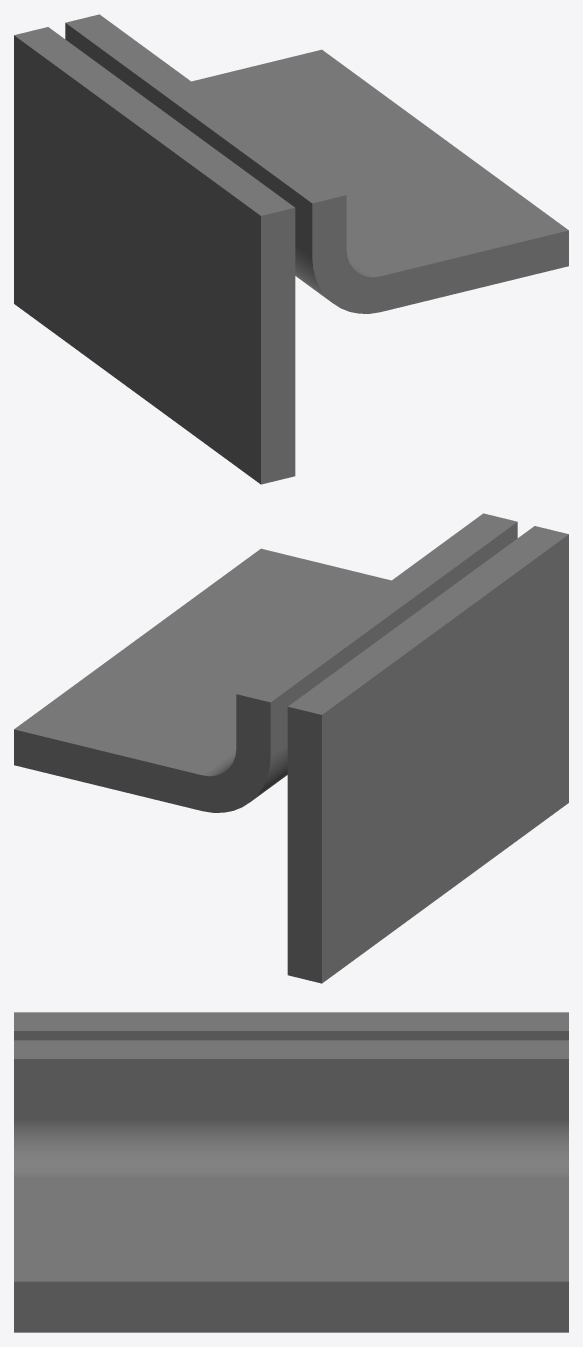
Rendered from У1_Кромки.glb.
The picture shows the model from 3 angles, top to bottom: view 1: azimuth 30°, elevation 25°; view 2: azimuth 150°, elevation 25°; view 3: azimuth 270°, elevation 25°; orthographic projection. The views are drawn at different scales.
Parts seen in each view (by area): view 1: node_id3; view 2: node_id3; view 3: node_id3.
Boxes of the visible parts, bbox=[...] form: node_id3: bbox=[14, 14, 568, 484]; node_id3: bbox=[14, 513, 568, 983]; node_id3: bbox=[14, 1012, 568, 1332].
Bounding box in the file's own units: 0.512 × 0.4267 × 0.7111.
1 material, 1 textured.
